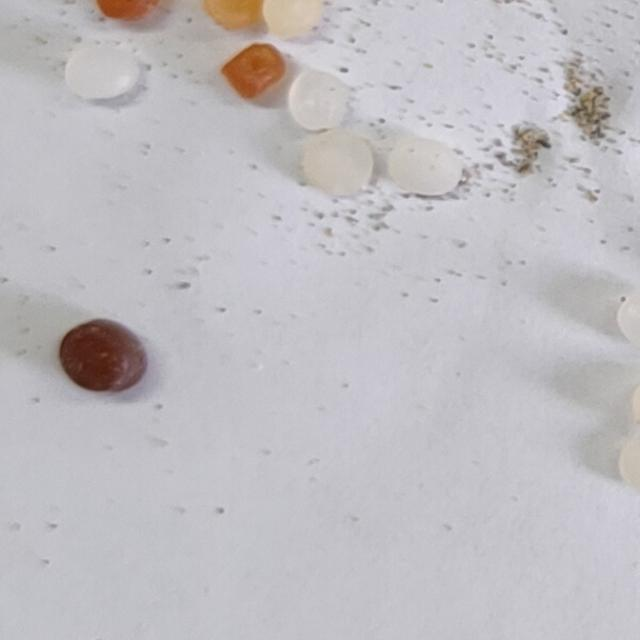beads: (50, 306, 155, 409), (296, 121, 381, 204), (386, 135, 466, 197), (283, 67, 354, 135), (65, 45, 140, 99), (262, 0, 324, 39), (199, 0, 266, 35), (617, 291, 640, 346), (620, 429, 640, 490), (96, 0, 158, 19)
fragments: (221, 33, 292, 102)
